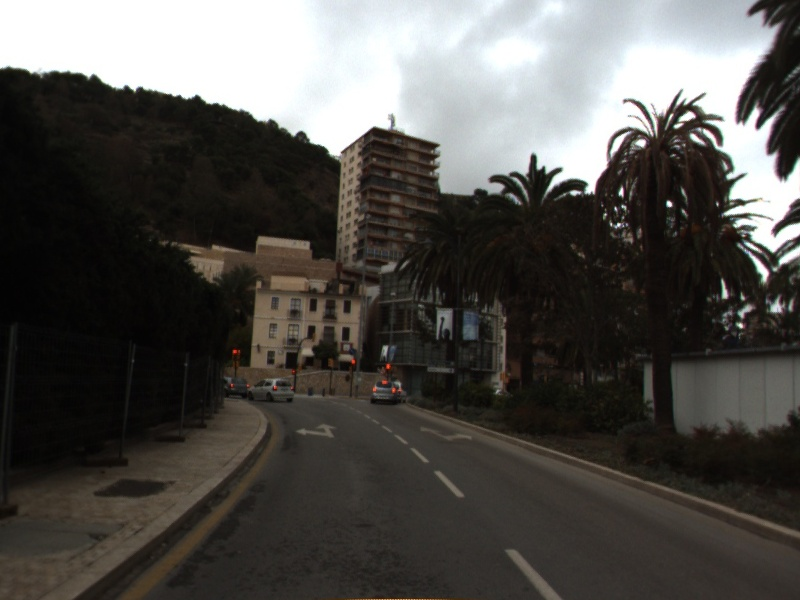STRAIGHT_LEFT: (293, 421, 340, 440)
STRAIGHT_RIGHT: (418, 424, 475, 444)
